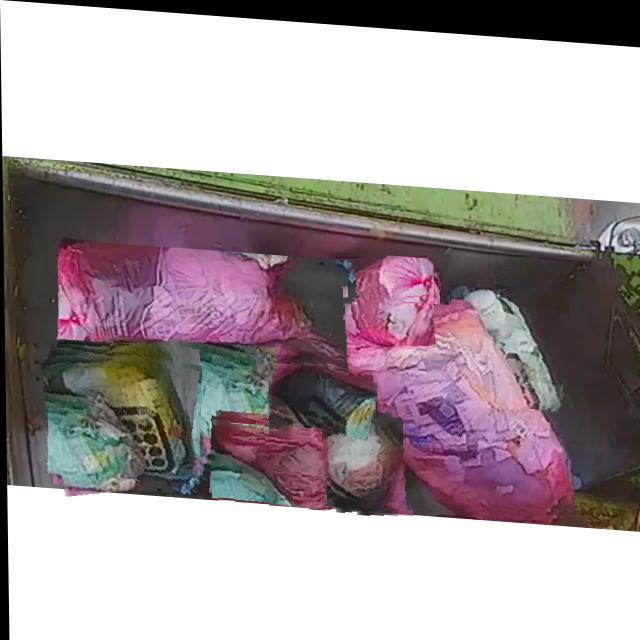general_trashbag: (112, 345, 290, 459), (43, 355, 199, 480), (451, 280, 561, 404), (269, 361, 376, 432), (323, 410, 401, 499)
other_trashbag: (344, 298, 568, 506), (59, 241, 347, 363), (213, 418, 328, 505), (316, 250, 433, 329)
